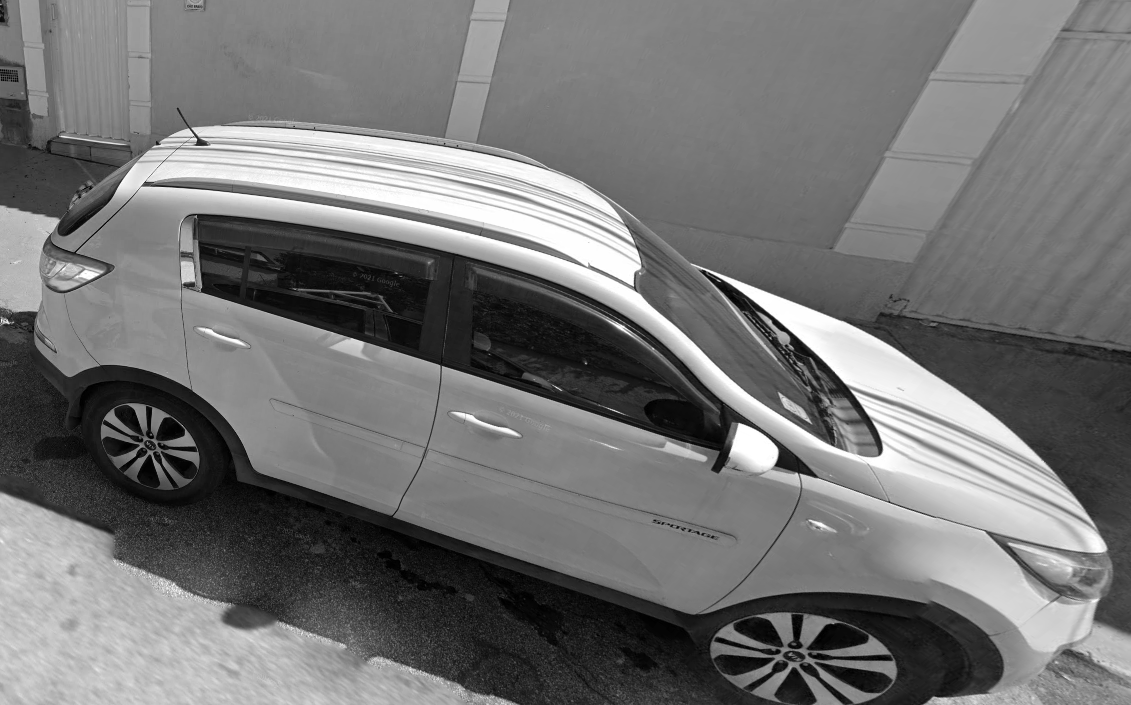car: (30, 117, 1113, 705)
